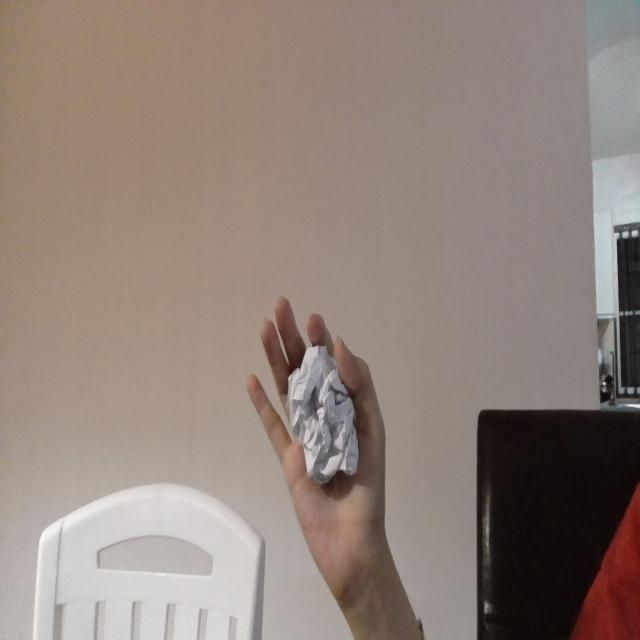crumpled_paper: (287, 336, 365, 492)
